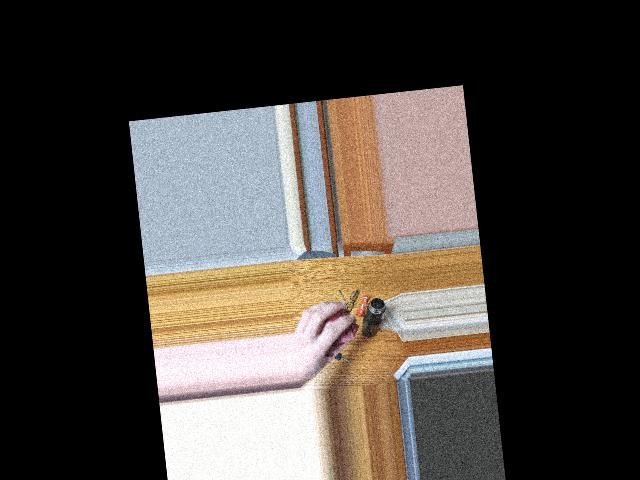onion: (318, 304, 354, 351)
